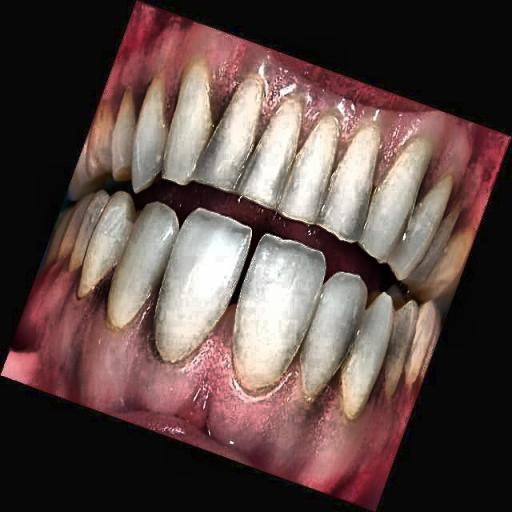Healthy: (72, 54, 415, 366)
